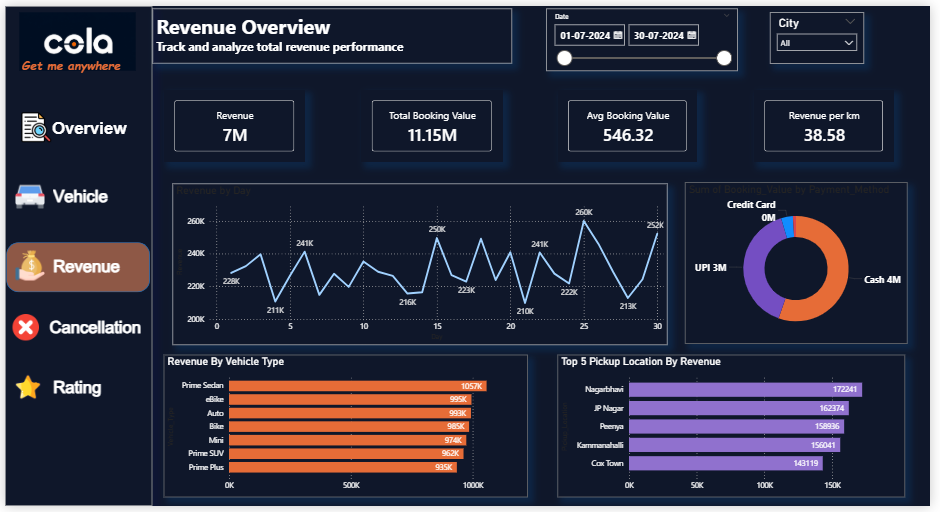

This screenshot's page, from the dashboard's own definition file:
{"tool":"powerbi","page":{"name":"Revenue Overview","canvas":[1480,800],"ordinal":2},"visuals":[{"type":"cardVisual","fields":{"Data":["July.Revenue"]},"box":[254,134,226,116],"z":0},{"type":"shape","box":[0,0,235.7,800],"z":1000},{"type":"shape","box":[2,378,230,80],"z":2000},{"type":"image","box":[10,10,211.7,93.3],"z":3000},{"type":"textbox","box":[0,75,211.7,36.7],"z":4000},{"type":"textbox","box":[58.3,176.7,153.3,53.3],"z":5000},{"type":"image","box":[26,170,48,48],"z":6000},{"type":"textbox","box":[71.7,280,138.3,55],"z":7000},{"type":"image","box":[16.7,265,48.3,78.3],"z":8000},{"type":"textbox","box":[72,392,138,54],"z":9000},{"type":"image","box":[16,376,48,78],"z":10000},{"type":"textbox","box":[65,490,163.3,51.7],"z":11000},{"type":"image","box":[12,480,42,68],"z":12000},{"type":"textbox","box":[71.7,585,160,51.7],"z":13000},{"type":"image","box":[16.7,576.7,41.7,66.7],"z":14000},{"type":"slicer","fields":{"Values":["July.Date"]},"box":[866.7,3.3,306.7,100],"z":15000},{"type":"slicer","fields":{"Values":["July.Pickup_Location"]},"box":[1224,10,150,82],"z":16000},{"type":"textbox","box":[235,3.3,575,88.3],"z":17000},{"type":"cardVisual","fields":{"Data":["Sum(July.Booking_Value)"]},"box":[569.3,134,226,116],"z":18000},{"type":"cardVisual","fields":{"Data":["Avg(July.Booking_Value)"]},"box":[884.7,134,224,116],"z":19000},{"type":"cardVisual","fields":{"Data":["July.Revenue per km"]},"box":[1198,134,224,116],"z":20000},{"type":"lineChart","fields":{"Category":["July.Date.Variation.Date Hierarchy.Day"],"Y":["July.Revenue"]},"box":[268,284,792,258],"z":21000},{"type":"donutChart","fields":{"Y":["Sum(July.Booking_Value)"],"Category":["July.Payment_Method"]},"box":[1088.4,281.6,356,258],"z":22000},{"type":"barChart","title":"Revenue By  Vehicle Type","fields":{"Category":["July.Vehicle_Type"],"Y":["July.Revenue"]},"box":[254,558,582,228],"z":23000},{"type":"clusteredBarChart","title":"Top 5 Pickup Location By Revenue","fields":{"Category":["July.Pickup_Location"],"Y":["July.Revenue"]},"box":[884,558,556,228],"z":24000}]}

Visuals, with their boxes in screenshot pixels (x1, y1, x2, y2), scaled from the page's 1480x800 canvas onto the 940x512 screenshot:
cardVisual - July.Revenue: <box>161,86,305,160</box>
shape: <box>0,0,150,511</box>
shape: <box>1,242,147,293</box>
image: <box>6,6,141,66</box>
textbox: <box>0,48,134,71</box>
textbox: <box>37,113,134,147</box>
image: <box>17,109,47,140</box>
textbox: <box>46,179,133,214</box>
image: <box>11,170,41,220</box>
textbox: <box>46,251,133,285</box>
image: <box>10,241,41,291</box>
textbox: <box>41,314,145,347</box>
image: <box>8,307,34,351</box>
textbox: <box>46,374,147,407</box>
image: <box>11,369,37,412</box>
slicer - July.Date: <box>550,2,745,66</box>
slicer - July.Pickup_Location: <box>777,6,873,59</box>
textbox: <box>149,2,514,59</box>
cardVisual - Sum(July.Booking_Value): <box>362,86,505,160</box>
cardVisual - Avg(July.Booking_Value): <box>562,86,704,160</box>
cardVisual - July.Revenue per km: <box>761,86,903,160</box>
lineChart - July.Date.Variation.Date Hierarchy.Day x July.Revenue: <box>170,182,673,347</box>
donutChart - Sum(July.Booking_Value) x July.Payment_Method: <box>691,180,917,345</box>
"Revenue By  Vehicle Type" barChart: <box>161,357,531,503</box>
"Top 5 Pickup Location By Revenue" clusteredBarChart: <box>561,357,915,503</box>
